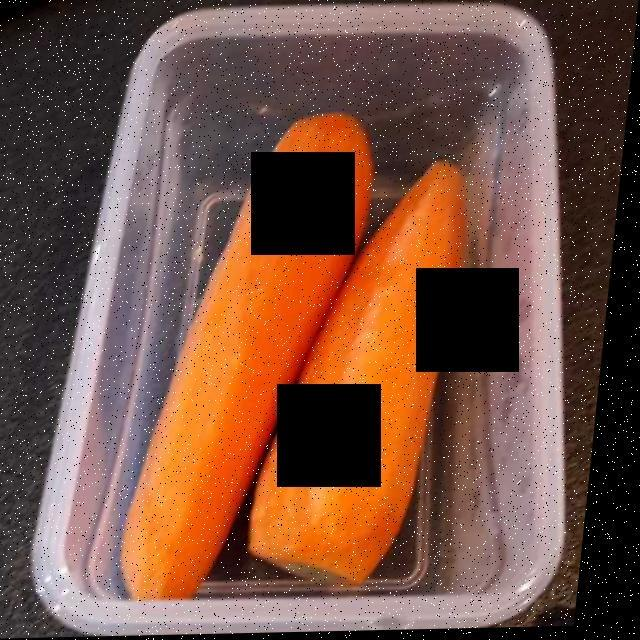carrot: (141, 121, 469, 586)
